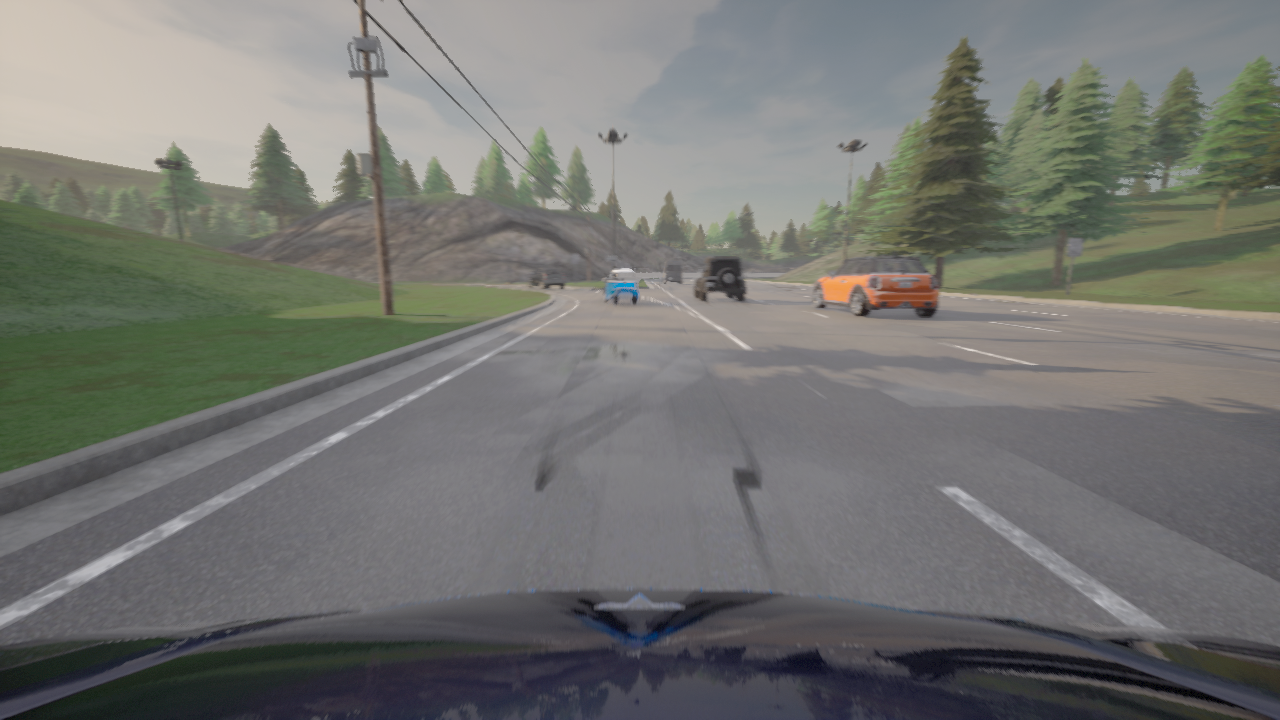cyclist: (0, 588, 1279, 719), (813, 253, 938, 316), (694, 257, 745, 301), (604, 269, 639, 304), (527, 267, 565, 289), (661, 260, 683, 284)
